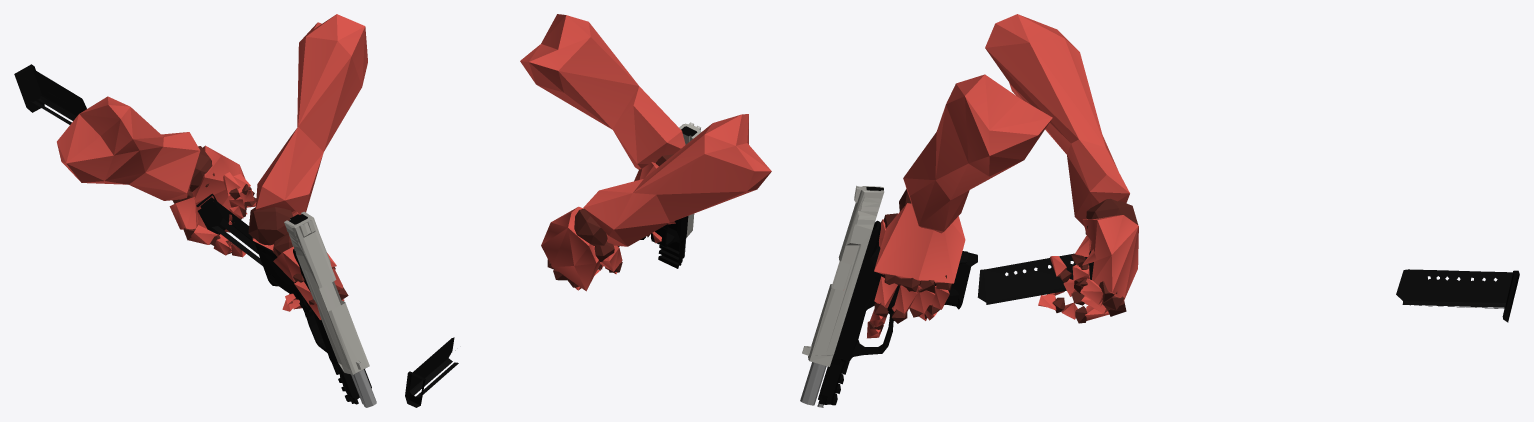
File: M&P9reloadNormal1lowP_000133.obj
3 renders of one model, left to right at view 1: azimuth 30°, elevation 25°; view 2: azimuth 150°, elevation 25°; view 3: azimuth 270°, elevation 25°, orthographic. The views are drawn at different scales.
Visible parts, largest first — view 1: Beta_Surface.001_Beta_Surface.002, slide_平面.002, Beta_Joints.001_Beta_Joints.002, triger_平面.001, magazine_平面.003, magazine.002_平面.005; view 2: Beta_Surface.001_Beta_Surface.002, magazine_平面.003, Beta_Joints.001_Beta_Joints.002, triger_平面.001, slide_平面.002; view 3: Beta_Surface.001_Beta_Surface.002, triger_平面.001, slide_平面.002, magazine_平面.003, Beta_Joints.001_Beta_Joints.002, magazine.002_平面.005.
Boxes of the visible parts, bbox=[...] form: Beta_Surface.001_Beta_Surface.002: bbox=[57, 14, 367, 319]; slide_平面.002: bbox=[284, 211, 369, 374]; Beta_Joints.001_Beta_Joints.002: bbox=[172, 146, 348, 304]; triger_平面.001: bbox=[255, 243, 376, 407]; magazine_平面.003: bbox=[14, 64, 86, 124]; magazine.002_平面.005: bbox=[196, 193, 262, 265]; Beta_Surface.001_Beta_Surface.002: bbox=[520, 14, 771, 291]; magazine_平面.003: bbox=[405, 337, 458, 407]; Beta_Joints.001_Beta_Joints.002: bbox=[544, 154, 673, 287]; triger_平面.001: bbox=[640, 216, 688, 268]; slide_平面.002: bbox=[679, 122, 701, 237]; Beta_Surface.001_Beta_Surface.002: bbox=[867, 14, 1138, 338]; triger_平面.001: bbox=[800, 220, 977, 407]; slide_平面.002: bbox=[802, 185, 884, 366]; magazine_平面.003: bbox=[1396, 269, 1519, 322]; Beta_Joints.001_Beta_Joints.002: bbox=[868, 189, 1138, 331]; magazine.002_平面.005: bbox=[977, 251, 1093, 304].
Bounding box in the file's own units: 63.32 × 68.91 × 125.
